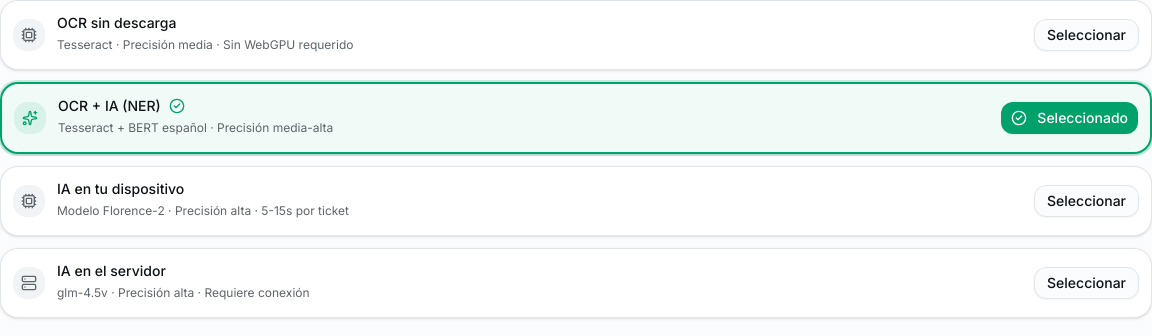
Test case: ScanEngineSelector › permite seleccionar IA en dispositivo sin modelo descargado
The image size is (1152, 336).
Step 1. Click the button with test id "select-florence2" → x=1086, y=201, box [1034,185,1139,217]
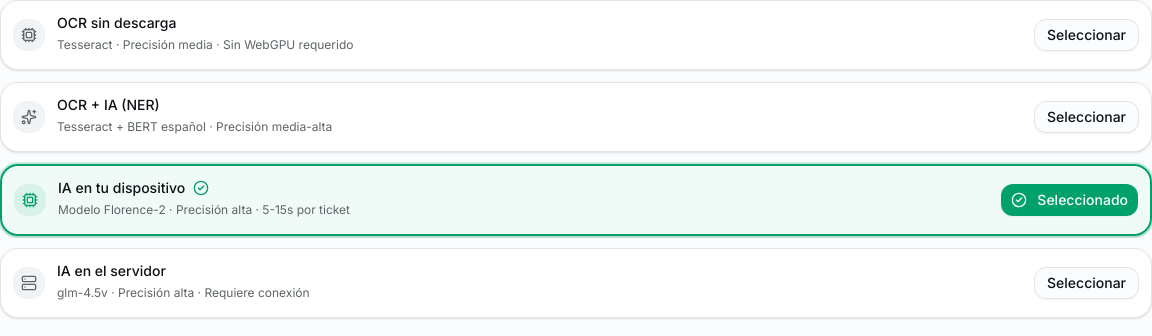
Expected: the button with test id "select-florence2" reads "Seleccionado", [1001,184,1138,216]
